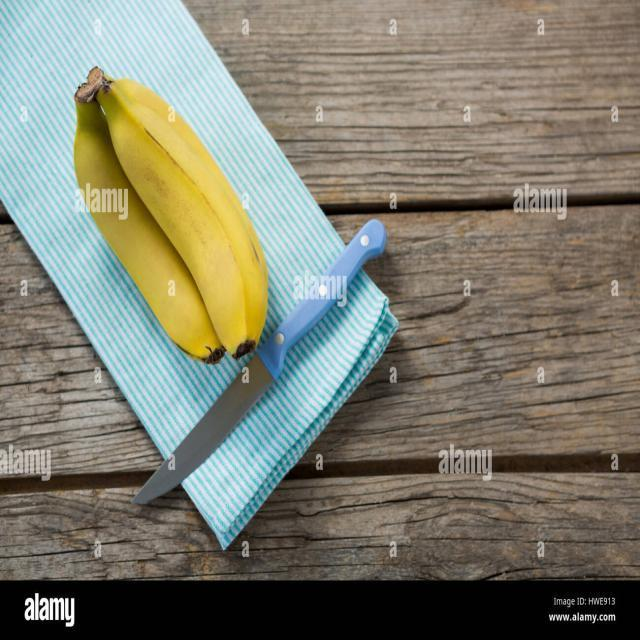Banana: (68, 61, 272, 364)
